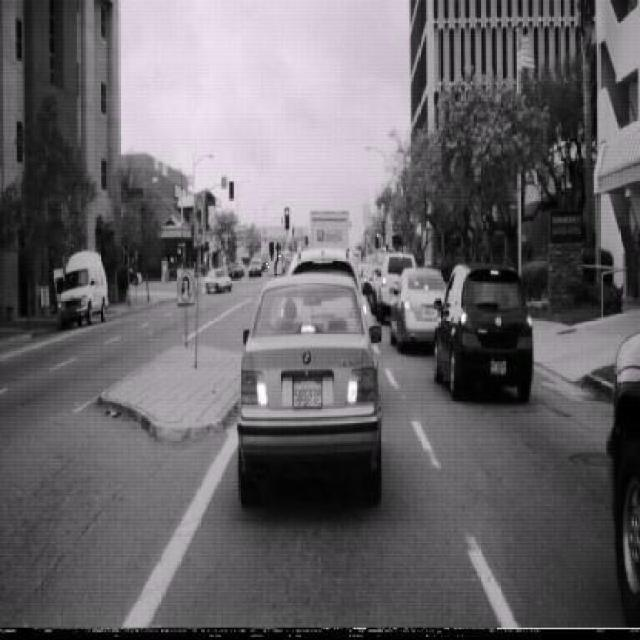keepRight: (266, 237, 283, 278)
